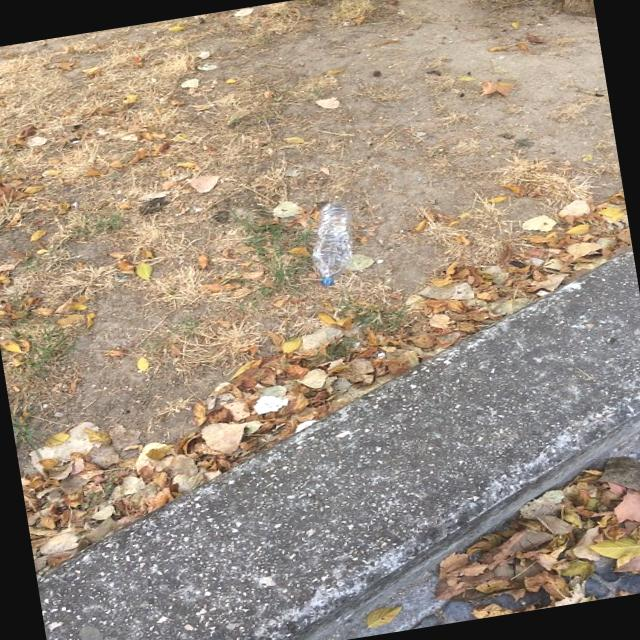Recycle: (308, 198, 366, 288)
